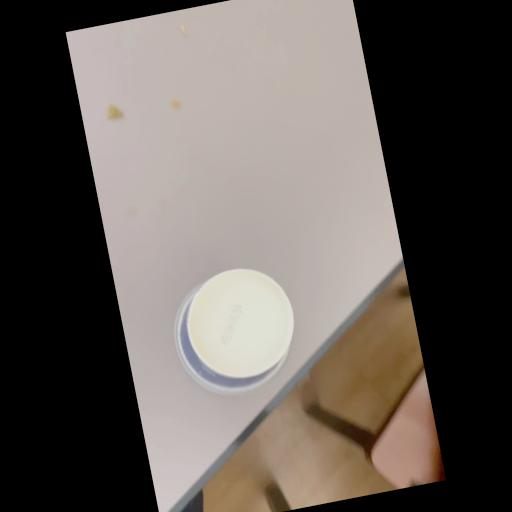lp_paper_cup: (158, 252, 311, 404)
